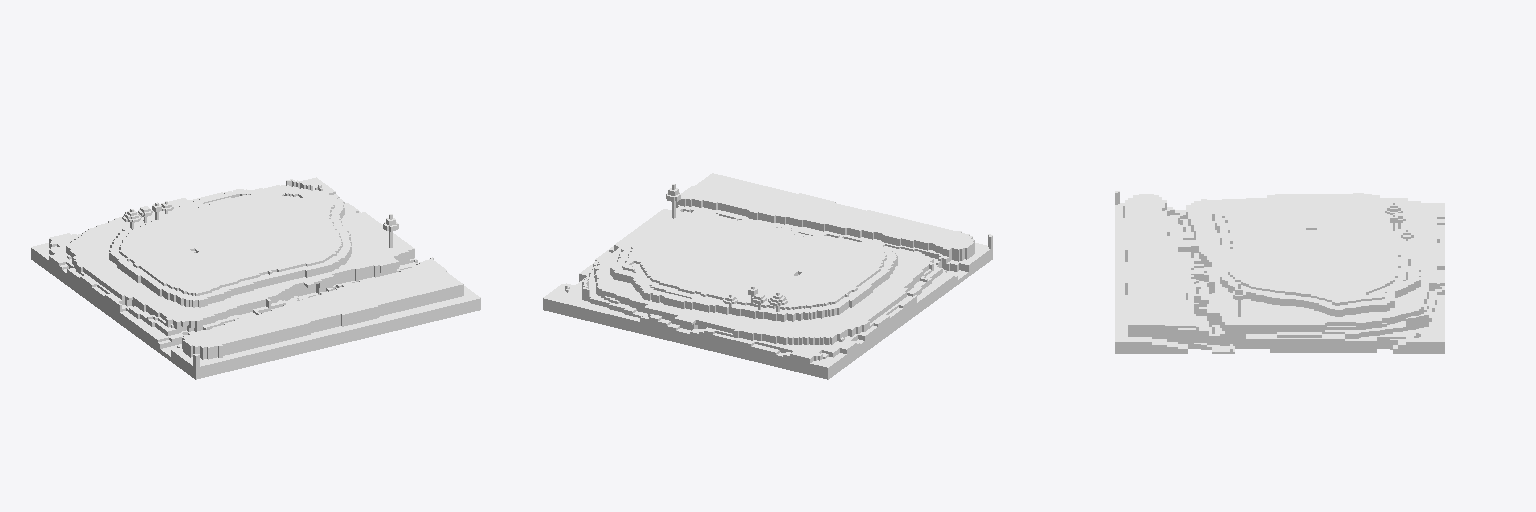
The model's file is new-office-land.obj.
The picture shows the model from 3 angles: view 1: azimuth 30°, elevation 25°; view 2: azimuth 150°, elevation 25°; view 3: azimuth 270°, elevation 25°; orthographic projection.
Parts seen in each view (by area): view 1: new-office-land; view 2: new-office-land; view 3: new-office-land.
Boxes of the visible parts, box(x1,y1,x2,y2) form: new-office-land: box(31, 177, 480, 379); new-office-land: box(543, 173, 992, 379); new-office-land: box(1115, 191, 1444, 353).
Bounding box in the file's own units: 126 × 24 × 126.